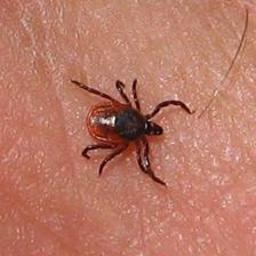Ixodes scapularis: (71, 78, 196, 188)
